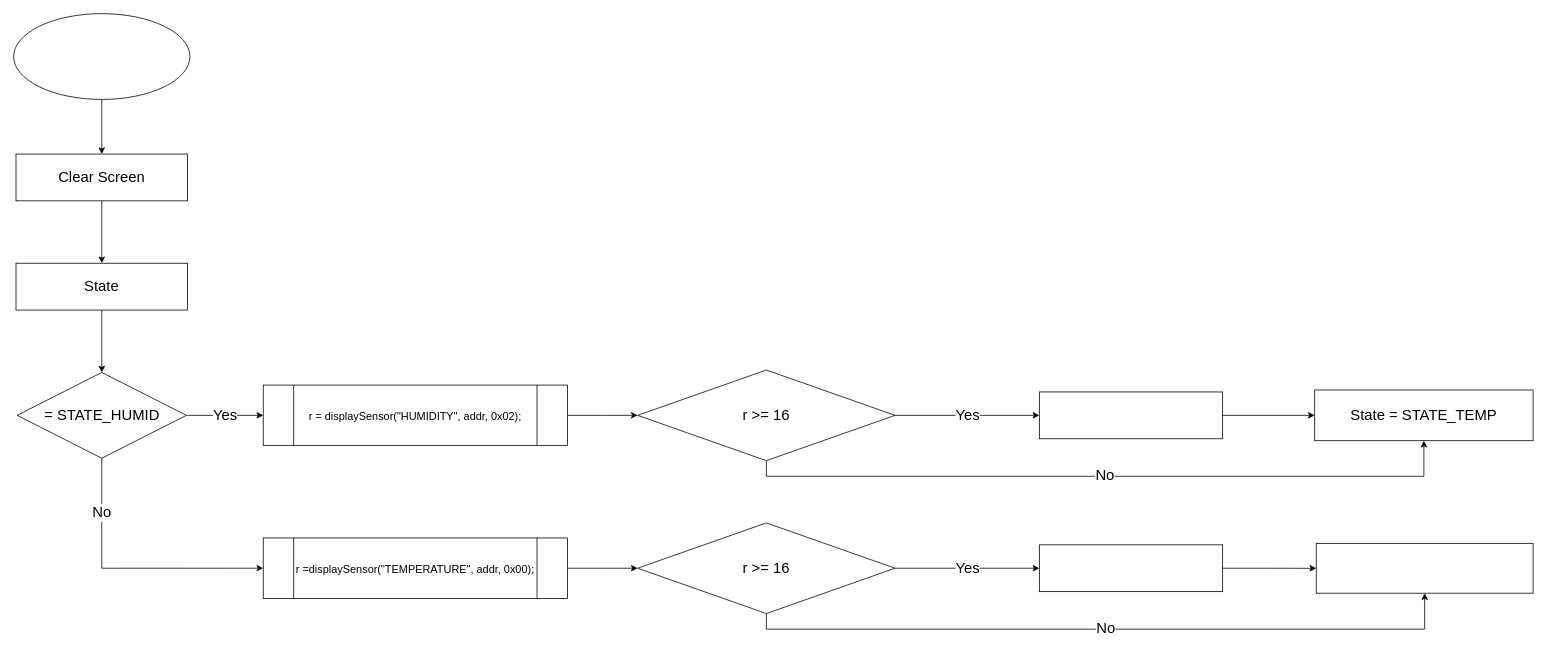
Some shapes in this 1547 by 652 pixel diagram are drawn without their labels. Here are the shapes that lost their labels. From the top down, the centre of each, then its label:
(x=101, y=56): Timer1 Overflow
(x=1131, y=415): display "wet" symbol
(x=1131, y=568): display "sunny" symbol
(x=1424, y=568): State = STATE_HUMID
